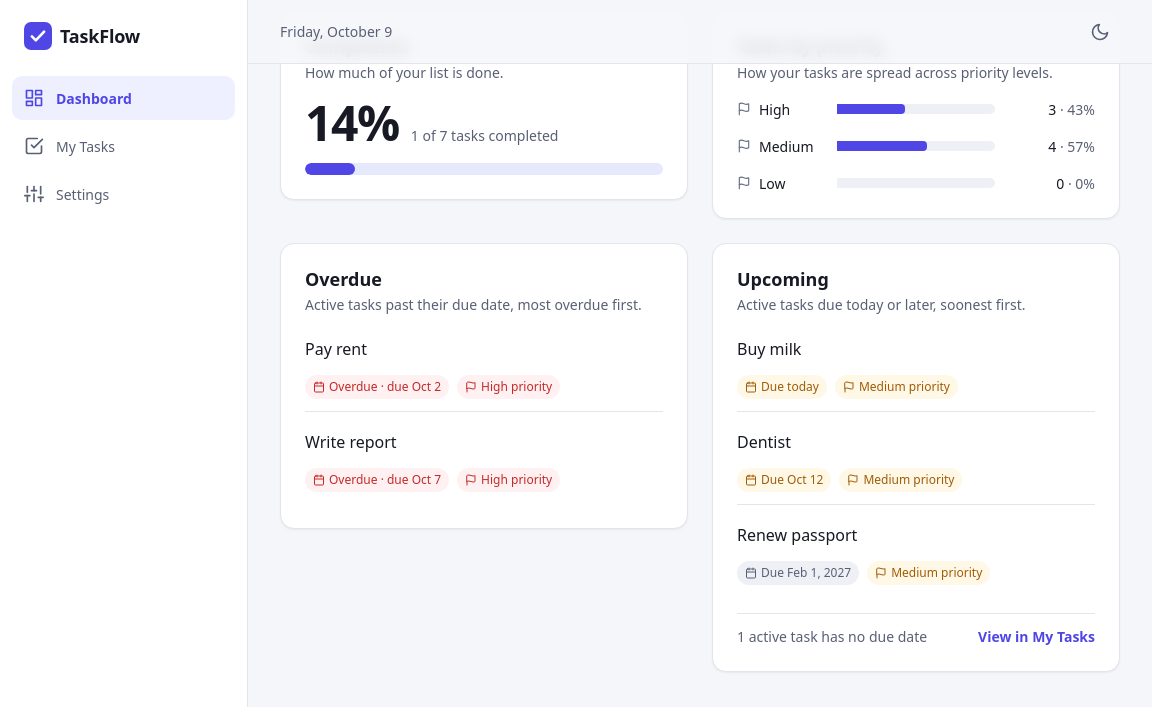
it: quick actions and navigation › opens a task from a deadline list for editing; moving its date updates both lists
(page scrolled)
Click the button named "Edit \"Write report\"" at x=351, y=442, box [305,424,663,460]
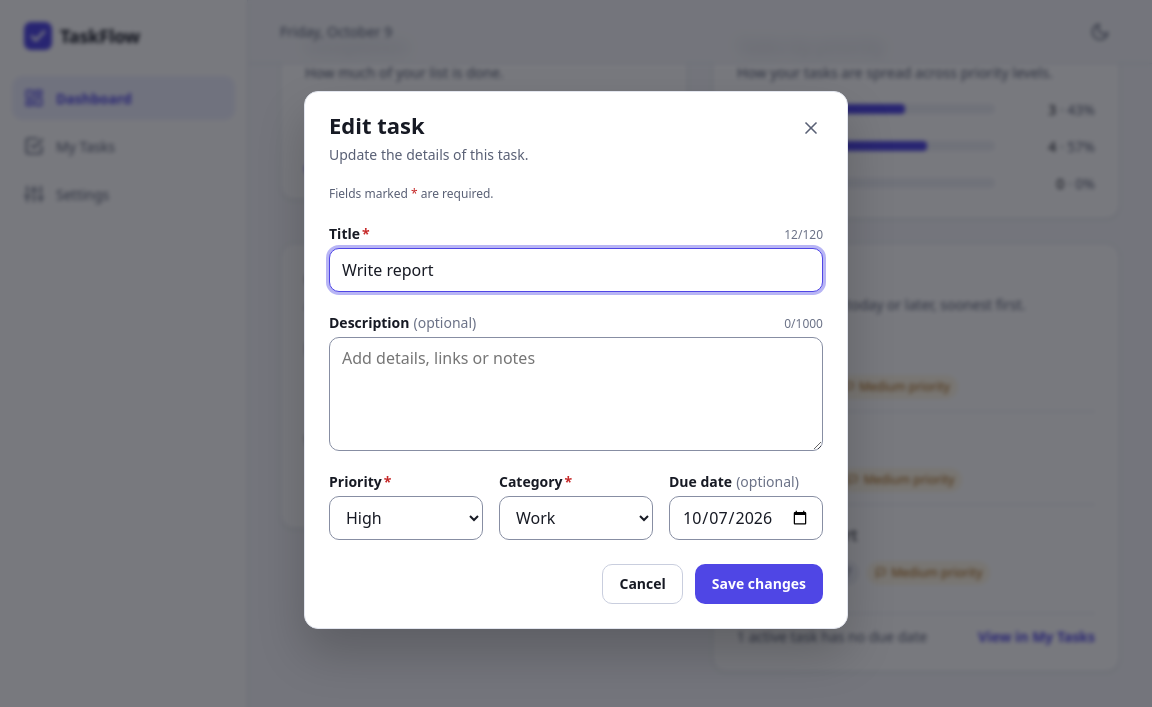
Now the field labelled "Title*" holds "Write report", box [329,248,823,292]
Type "2026-10-20" into the date field labelled "Due date(optional)" at x=746, y=518, box [669,496,823,540]
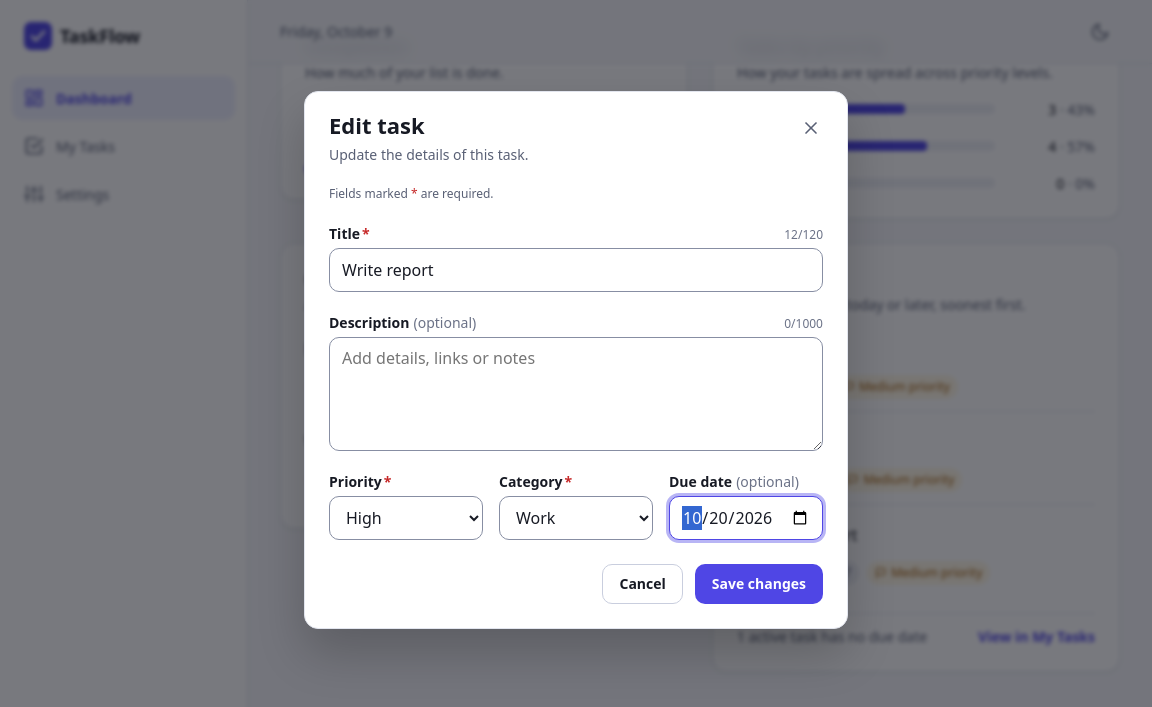
Click the button "Save changes" at x=759, y=584, box [695,564,823,604]
(page scrolled)
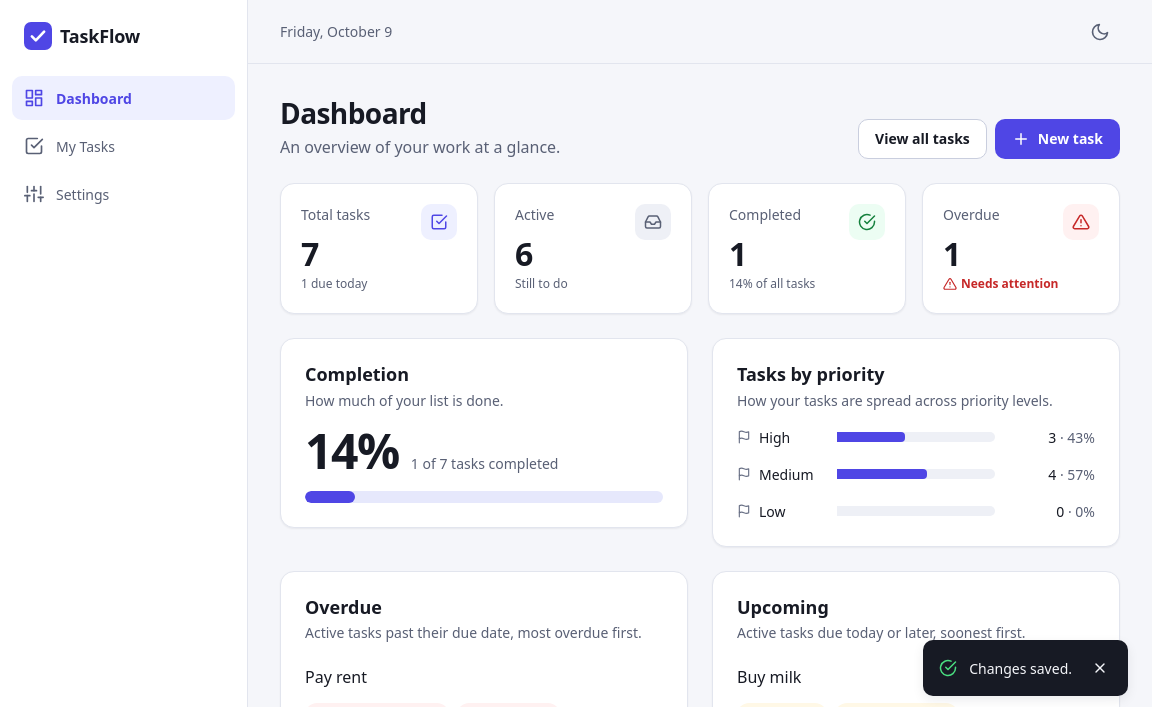
Now the 2nd text "1" is shown, box [943,232,961,275]
